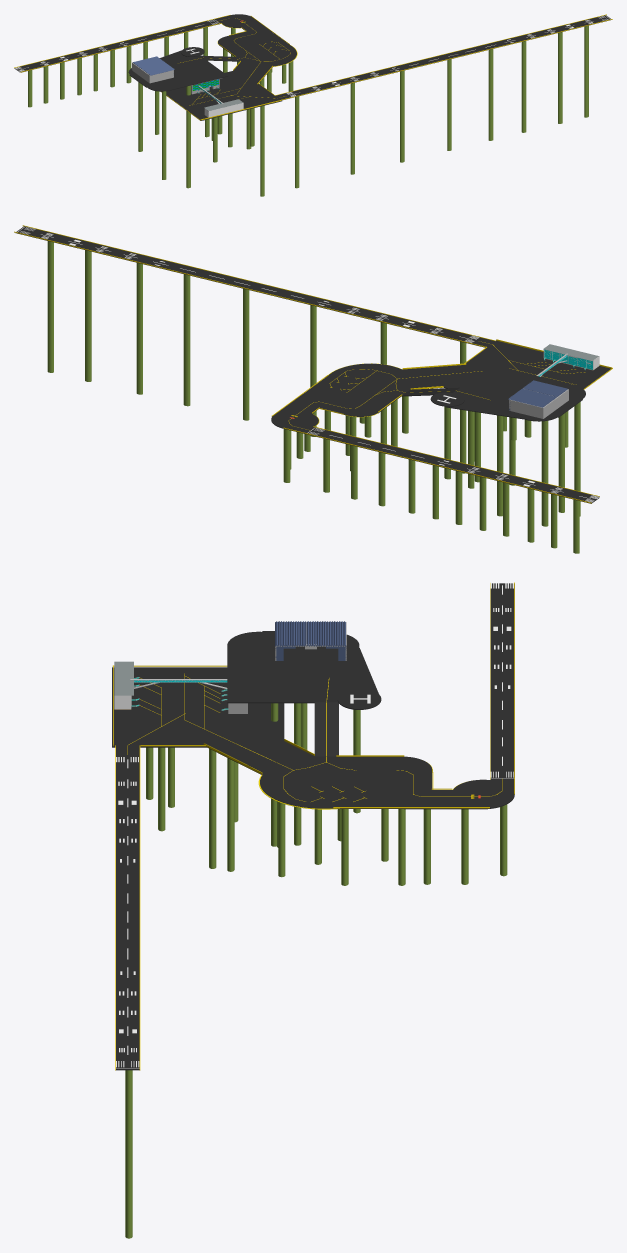
The model's file is tav6.glb.
3 views of the same model, one above another, from view 1: azimuth 30°, elevation 25°; view 2: azimuth 150°, elevation 25°; view 3: azimuth 270°, elevation 25° (orthographic). The views are drawn at different scales.
Parts seen in each view (by area): view 1: mesh (×11), cylinder (×15), group; view 2: mesh (×11), cylinder (×16), group; view 3: mesh (×10), cylinder (×7), group.
Boxes of the visible parts, box(x1,y1,x2,y2) form: mesh (×11): box(14, 14, 612, 120); cylinder (×15): box(138, 14, 588, 196); group: box(230, 16, 289, 44); mesh (×11): box(14, 225, 610, 503); cylinder (×16): box(47, 241, 580, 526); group: box(271, 375, 368, 420); mesh (×10): box(112, 583, 514, 1070); cylinder (×7): box(125, 631, 514, 1238); group: box(333, 769, 489, 809).
Size of what is drawn, in the model's own units: 95.04 by 20.5 by 33.22.
Materials: 33 (31 with a texture image).
